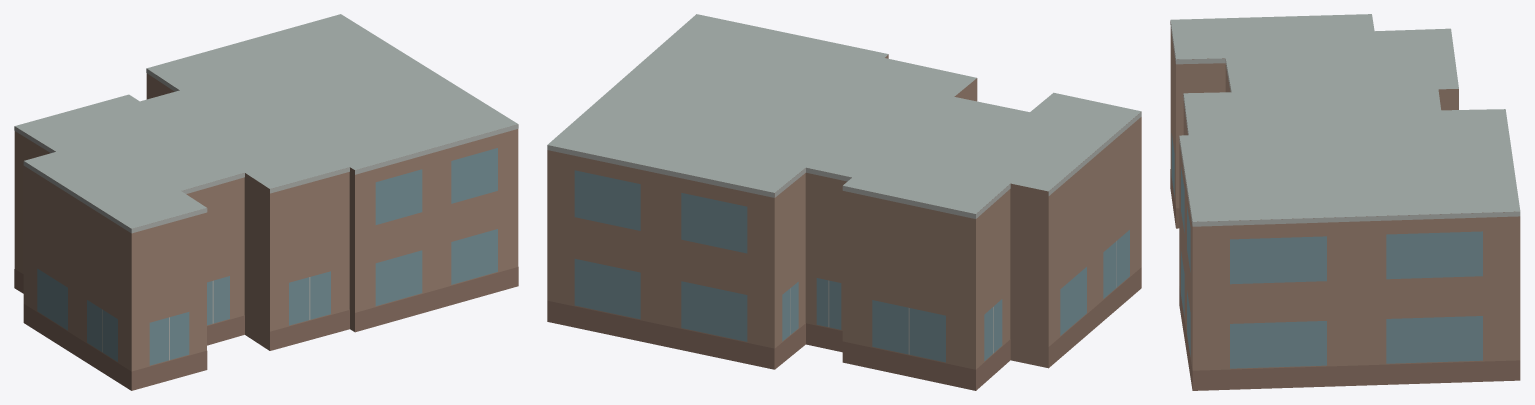
File: survey-upis-32674995.glb
The picture shows the model from 3 angles, left to right: view 1: azimuth 30°, elevation 25°; view 2: azimuth 150°, elevation 25°; view 3: azimuth 270°, elevation 25°; orthographic projection. The views are drawn at different scales.
Visible parts, largest first — view 1: survey-upis-32674995.tmp; view 2: survey-upis-32674995.tmp; view 3: survey-upis-32674995.tmp.
Boxes of the visible parts, box(x1,y1,x2,y2) form: survey-upis-32674995.tmp: box(14, 14, 518, 390); survey-upis-32674995.tmp: box(547, 14, 1141, 390); survey-upis-32674995.tmp: box(1170, 14, 1520, 390).
Bounding box in the file's own units: 22.52 × 8.53 × 16.02.
